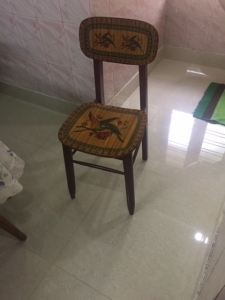chair: (58, 17, 159, 216)
